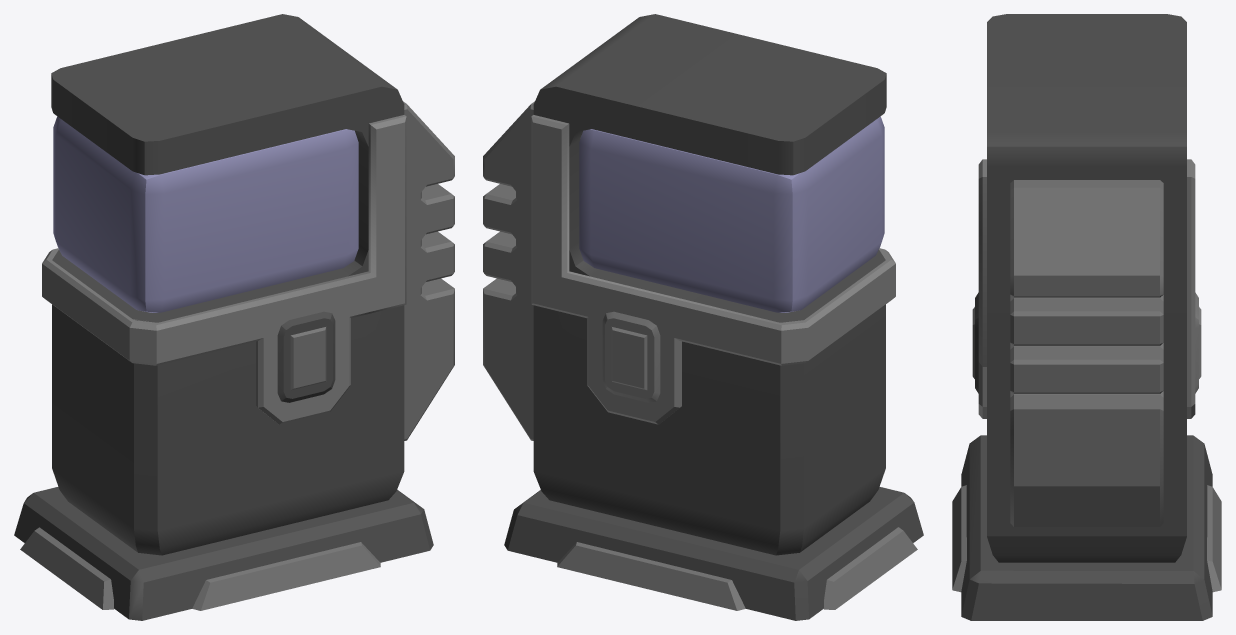
File: Aquarium.fbx
3 renders of one model, left to right at view 1: azimuth 30°, elevation 25°; view 2: azimuth 150°, elevation 25°; view 3: azimuth 270°, elevation 25°, orthographic.
Parts seen in each view (by area): view 1: Aquarium; view 2: Aquarium; view 3: Aquarium.
Part boxes in pixels (<box>): Aquarium: <box>14,14,454,620</box>; Aquarium: <box>483,14,923,620</box>; Aquarium: <box>952,14,1221,620</box>.
Size of the model in its own units: 110 by 136 by 71.22.
